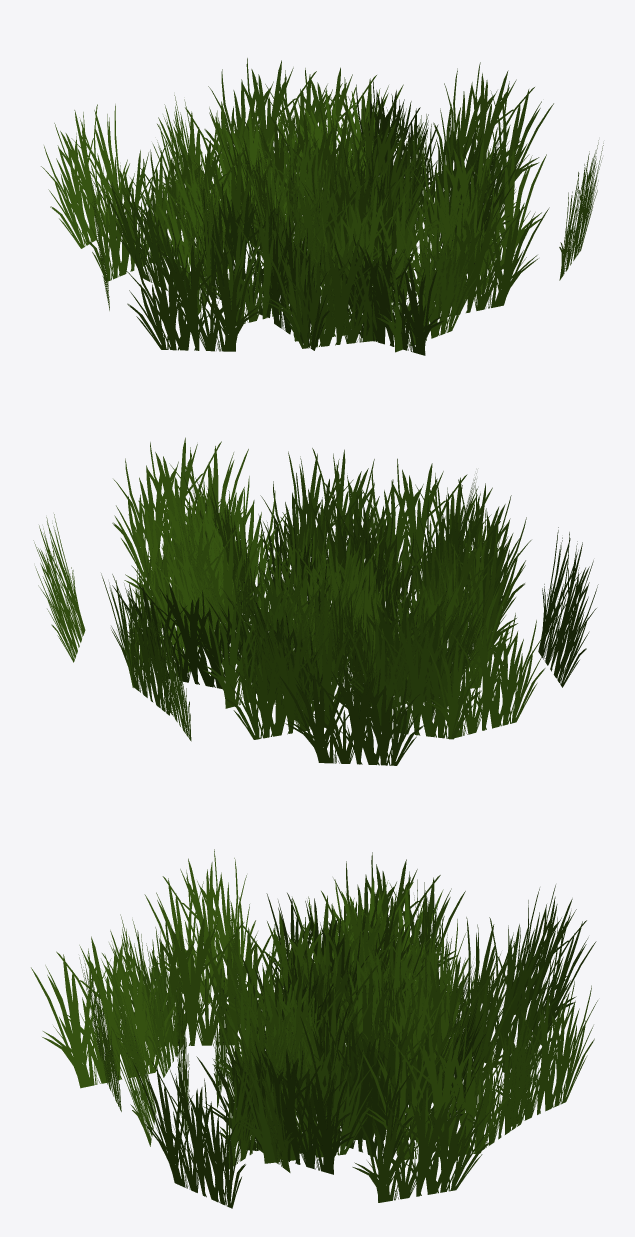
File: space_grass_2.fbx
3 views of the same model, one above another, from view 1: azimuth 30°, elevation 25°; view 2: azimuth 150°, elevation 25°; view 3: azimuth 270°, elevation 25° (orthographic). The views are drawn at different scales.
Visible parts, largest first — view 1: Cube_2; view 2: Cube_2; view 3: Cube_2.
Boxes of the visible parts, box(x1,y1,x2,y2) form: Cube_2: box(41, 58, 603, 355); Cube_2: box(33, 437, 598, 765); Cube_2: box(31, 849, 597, 1208).
Size of the model in its own units: 81.09 by 23.94 by 74.78.
1 material, 1 textured.
